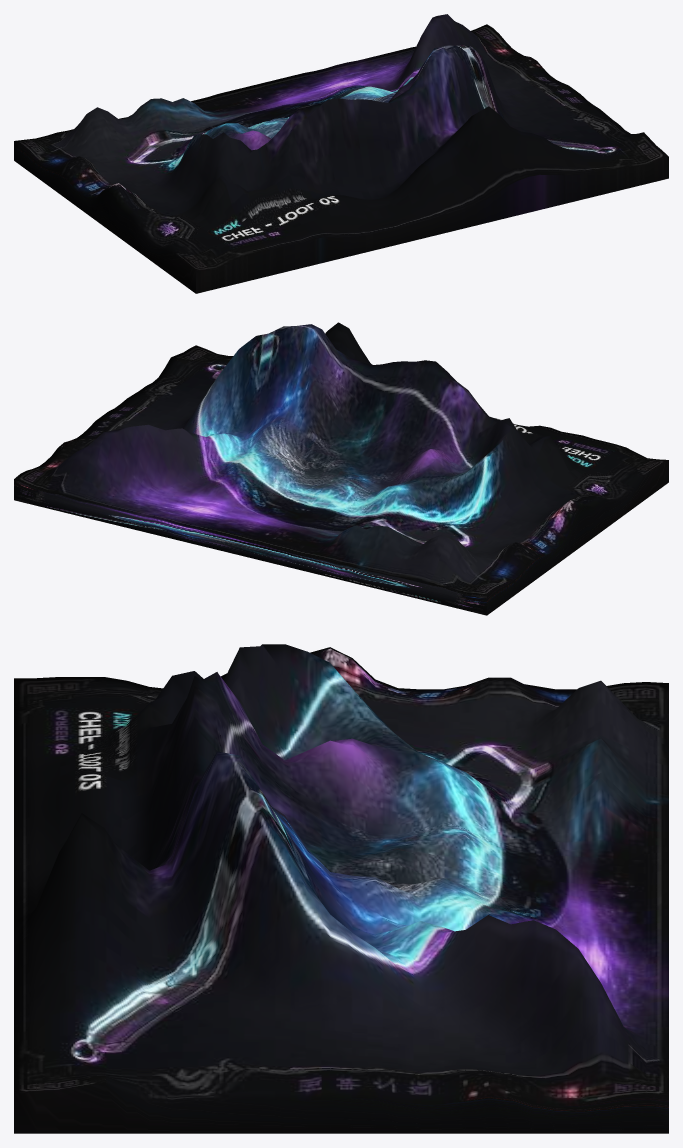
The model's file is CAREER_05_Tool_02_Wok.glb.
3 views of the same model, one above another, from view 1: azimuth 30°, elevation 25°; view 2: azimuth 150°, elevation 25°; view 3: azimuth 270°, elevation 25° (orthographic). The views are drawn at different scales.
Parts seen in each view (by area): view 1: CAREER_05_Tool_02_Wok; view 2: CAREER_05_Tool_02_Wok; view 3: CAREER_05_Tool_02_Wok.
Boxes of the visible parts, x1=… form: CAREER_05_Tool_02_Wok: x1=14, y1=14, x2=668, y2=293; CAREER_05_Tool_02_Wok: x1=14, y1=322, x2=668, y2=615; CAREER_05_Tool_02_Wok: x1=14, y1=644, x2=668, y2=1133.
Size of the model in its own units: 2 by 0.51 by 1.33.
1 material, 1 textured.
